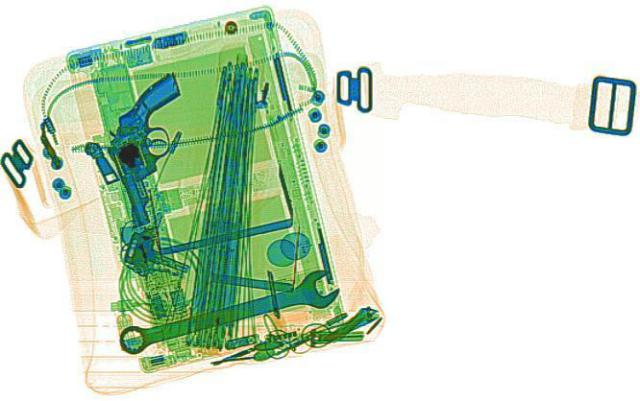Gun: (76, 72, 234, 225)
Wrench: (104, 266, 348, 358)
